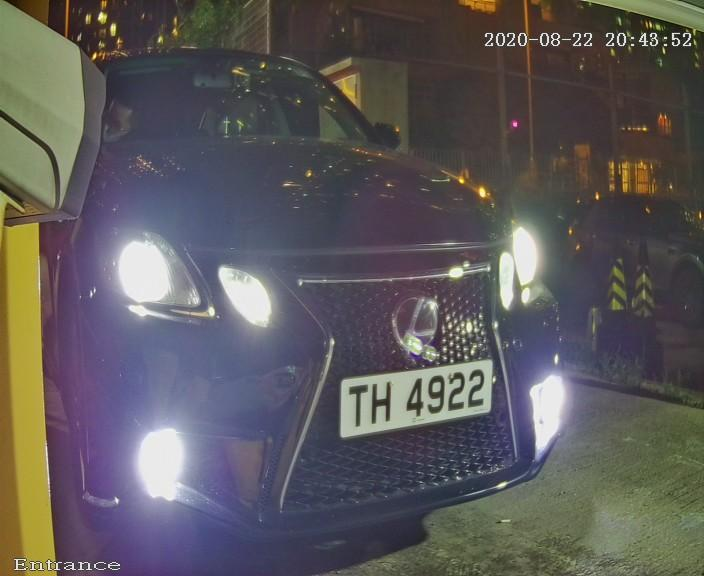Car: (29, 1, 610, 576)
License Plate: (295, 347, 521, 450)
